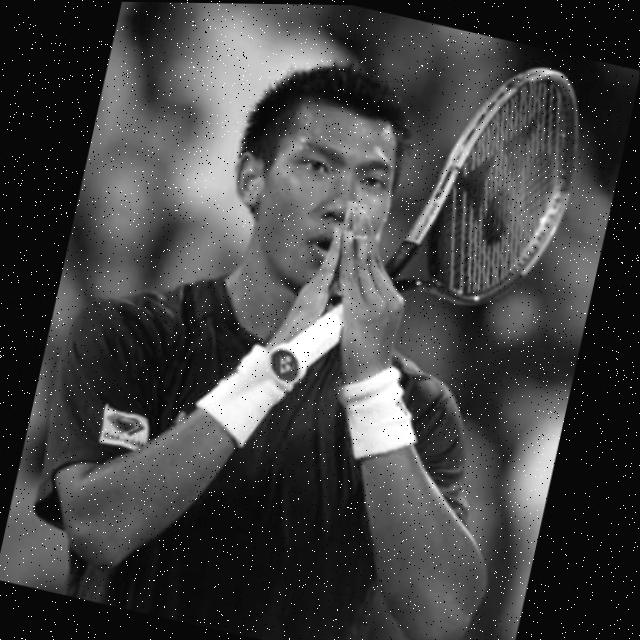face: (211, 70, 406, 314)
